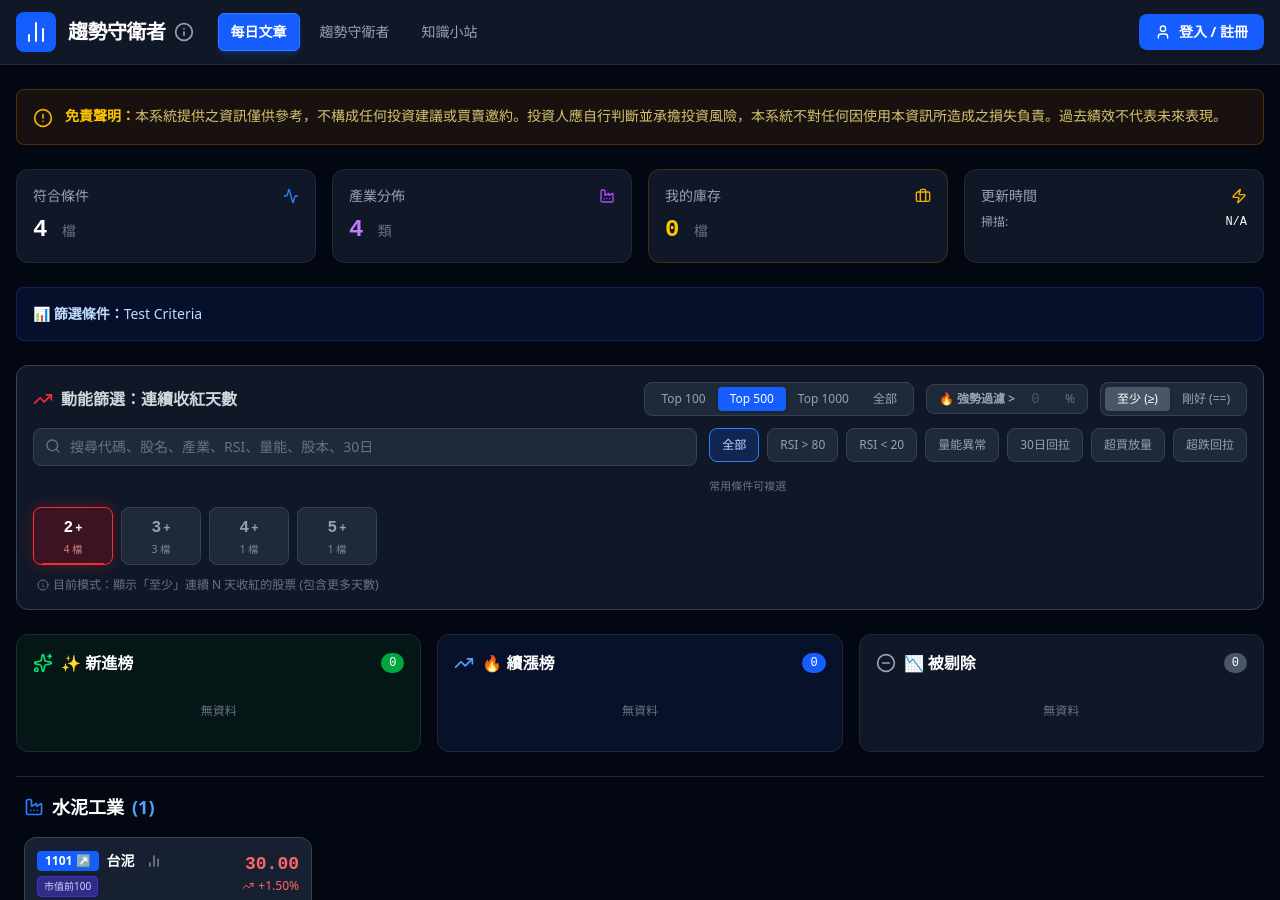
Test: App Filter Logic Tests › filters by common combo for oversold rebound
Check: the heading "台泥" is shown, box top-left (107, 851), bottom-right (135, 871)
Step 1. Click the button "超跌回拉" → (1210, 445), box top-left (1173, 428), bottom-right (1247, 462)
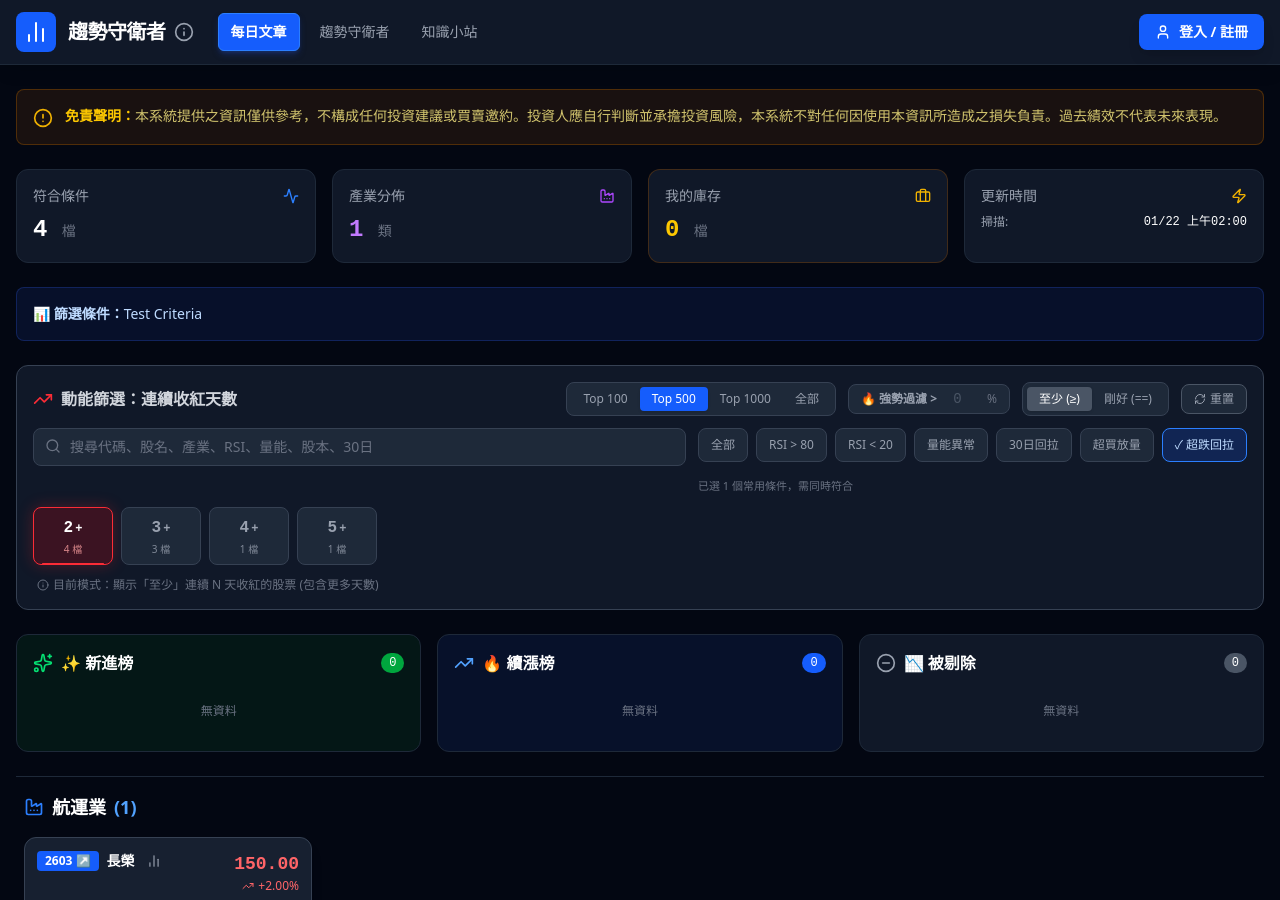
Check: the heading "長榮" is shown, box top-left (107, 851), bottom-right (135, 871)
Check: the heading "台泥" is gone
